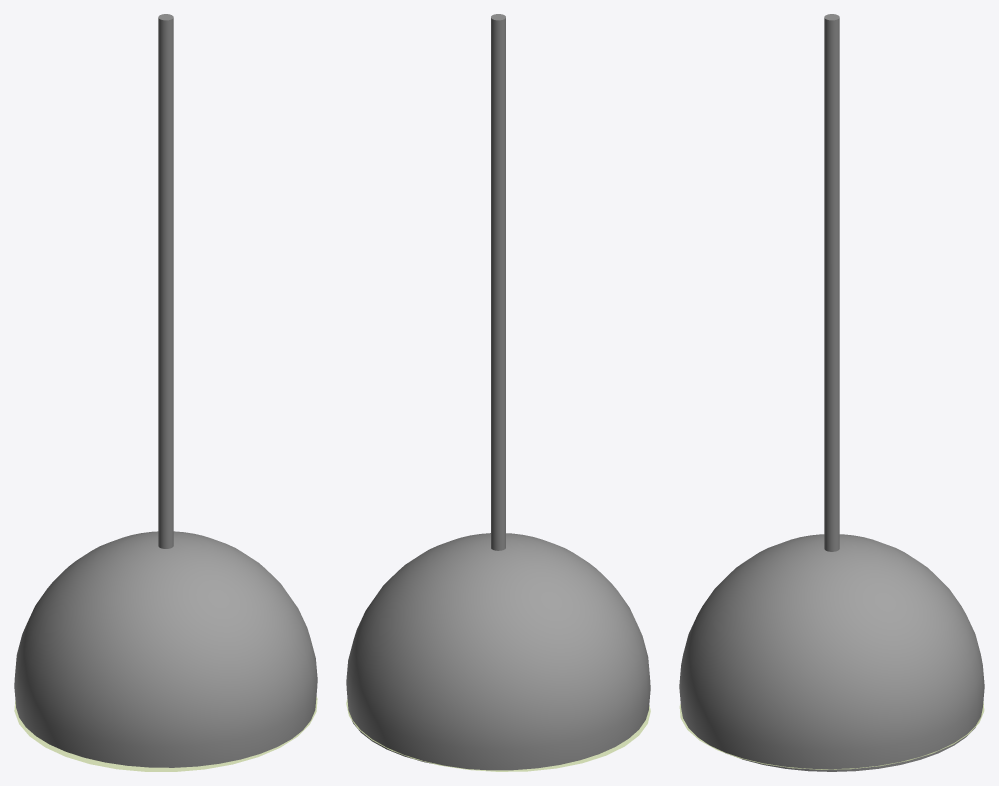
Rendered from LightFixture 2.fbx.
3 renders of one model, left to right at view 1: azimuth 30°, elevation 25°; view 2: azimuth 150°, elevation 25°; view 3: azimuth 270°, elevation 25°, orthographic.
Parts seen in each view (by area): view 1: Sphere, Cylinder, Circle; view 2: Sphere, Cylinder, Circle; view 3: Sphere, Cylinder, Circle.
Part boxes in pixels (bbox=[...]): Sphere: bbox=[14, 531, 317, 767]; Cylinder: bbox=[158, 14, 173, 548]; Circle: bbox=[14, 696, 317, 771]; Sphere: bbox=[346, 533, 650, 770]; Cylinder: bbox=[491, 14, 505, 550]; Circle: bbox=[346, 699, 650, 771]; Sphere: bbox=[679, 534, 984, 771]; Cylinder: bbox=[824, 14, 839, 551]; Circle: bbox=[679, 701, 984, 769].
Size of the model in its own units: 200 by 502 by 200.
